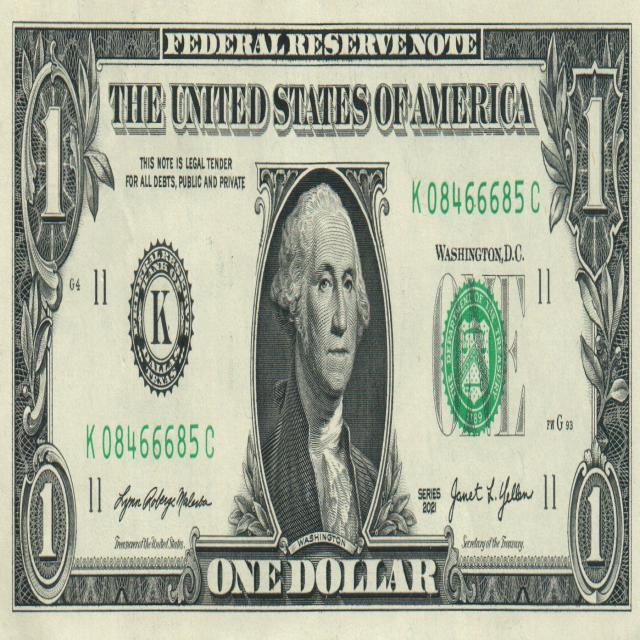SerialNumber: (87, 424, 214, 459), (413, 180, 539, 215)
